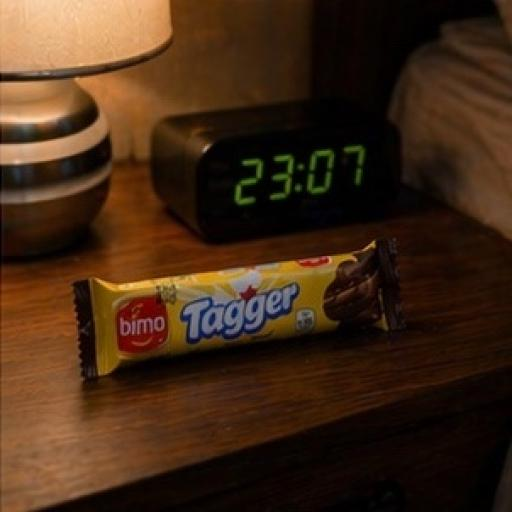tagger: (71, 257, 406, 364)
